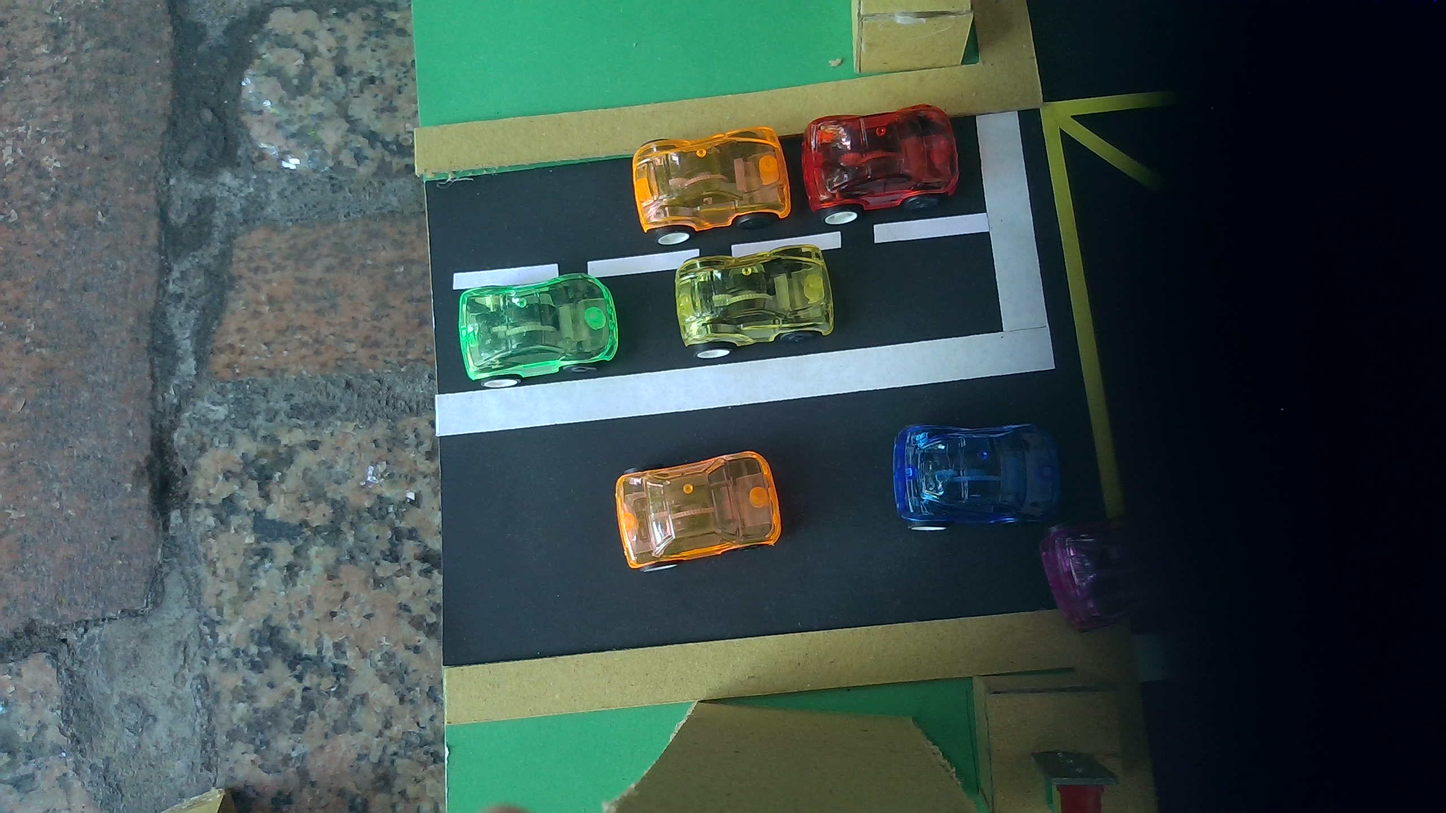Mobil hijau: (458, 274, 619, 388)
Mobil kuning: (674, 245, 834, 358)
Mobil merah: (802, 104, 958, 224)
Mobil orange: (633, 127, 790, 244)
